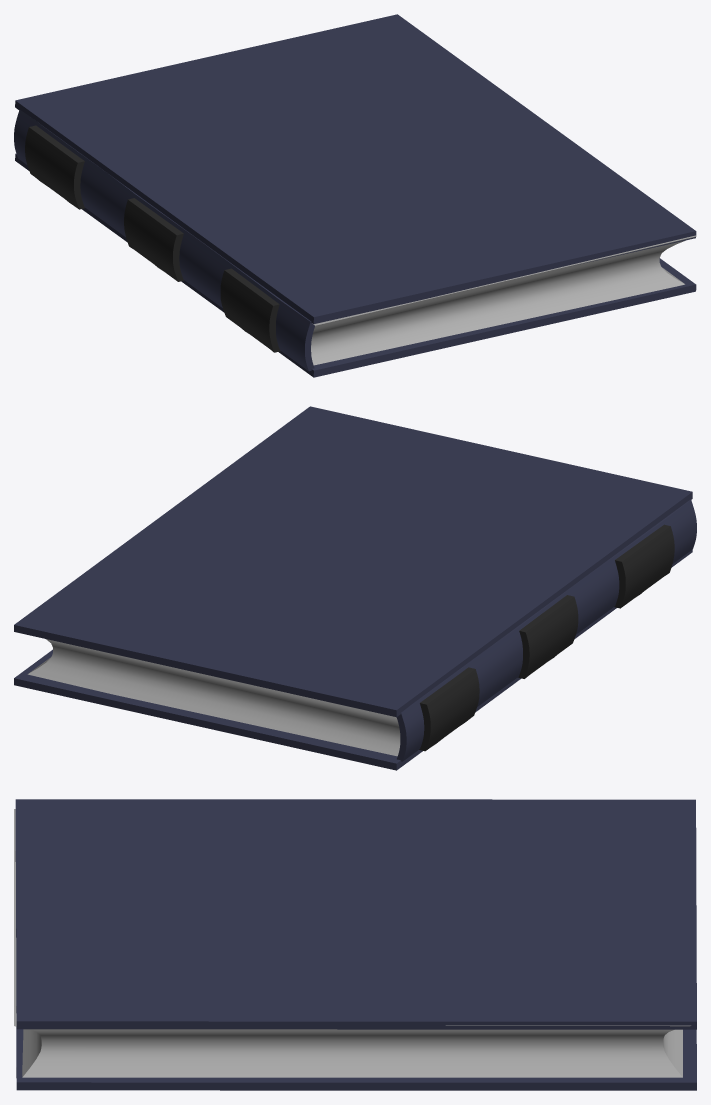
File: Misc_bluebook.fbx
3 renders of one model, top to bottom at view 1: azimuth 30°, elevation 25°; view 2: azimuth 150°, elevation 25°; view 3: azimuth 270°, elevation 25°, orthographic. The views are drawn at different scales.
Parts seen in each view (by area): view 1: pCube1, pCube9, pCube5, pCube4; view 2: pCube1, pCube9, pCube5, pCube4; view 3: pCube1, pCube5, pCube4.
Boxes of the visible parts, x1,y1,x2,y2 form: pCube1: [15, 14, 696, 323]; pCube9: [14, 109, 314, 371]; pCube5: [311, 235, 696, 365]; pCube4: [15, 153, 696, 377]; pCube1: [14, 406, 692, 717]; pCube9: [396, 499, 696, 761]; pCube5: [27, 499, 691, 756]; pCube4: [14, 549, 692, 770]; pCube1: [15, 799, 696, 1029]; pCube5: [14, 809, 690, 1077]; pCube4: [16, 1027, 696, 1090].
Size of the model in its own units: 5.25 by 0.8717 by 6.86.
